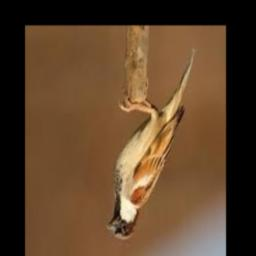Sparrow: (107, 46, 196, 240)
